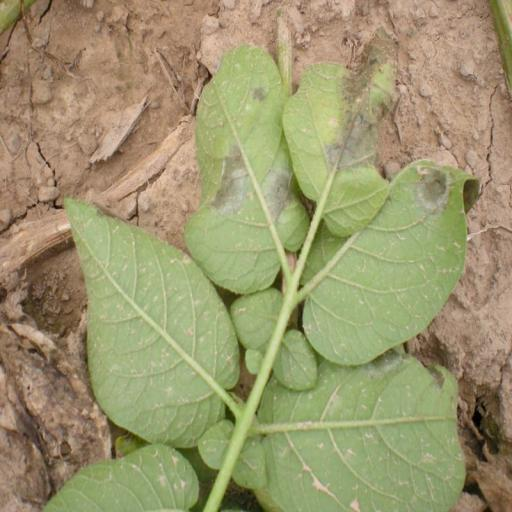Late Blight: (292, 154, 482, 372), (186, 41, 310, 304), (285, 54, 404, 239)
